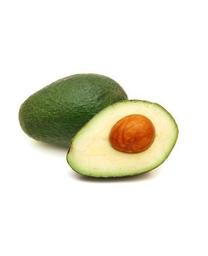avocado: (65, 99, 179, 178), (18, 73, 128, 147)
